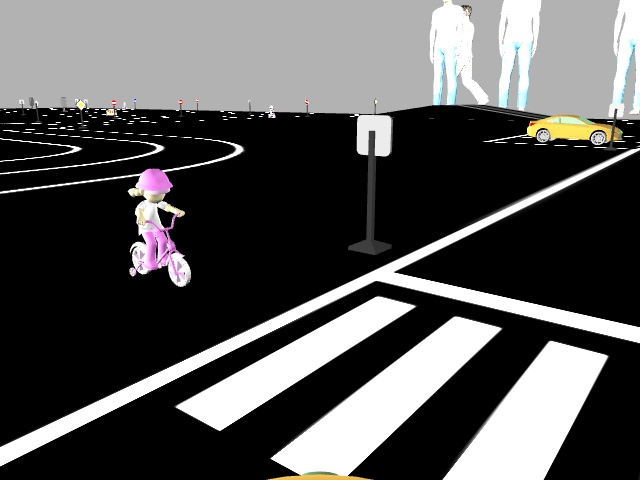Pedestrian: (122, 163, 194, 291)
